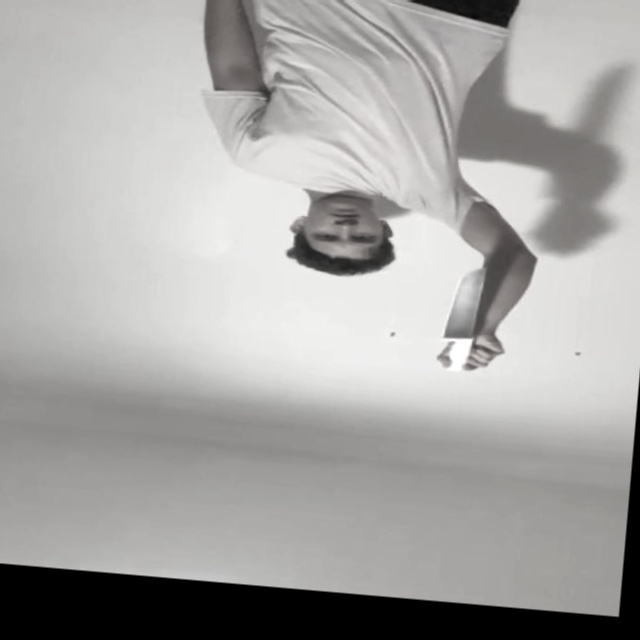Sharp-Object: (448, 269, 487, 342)
